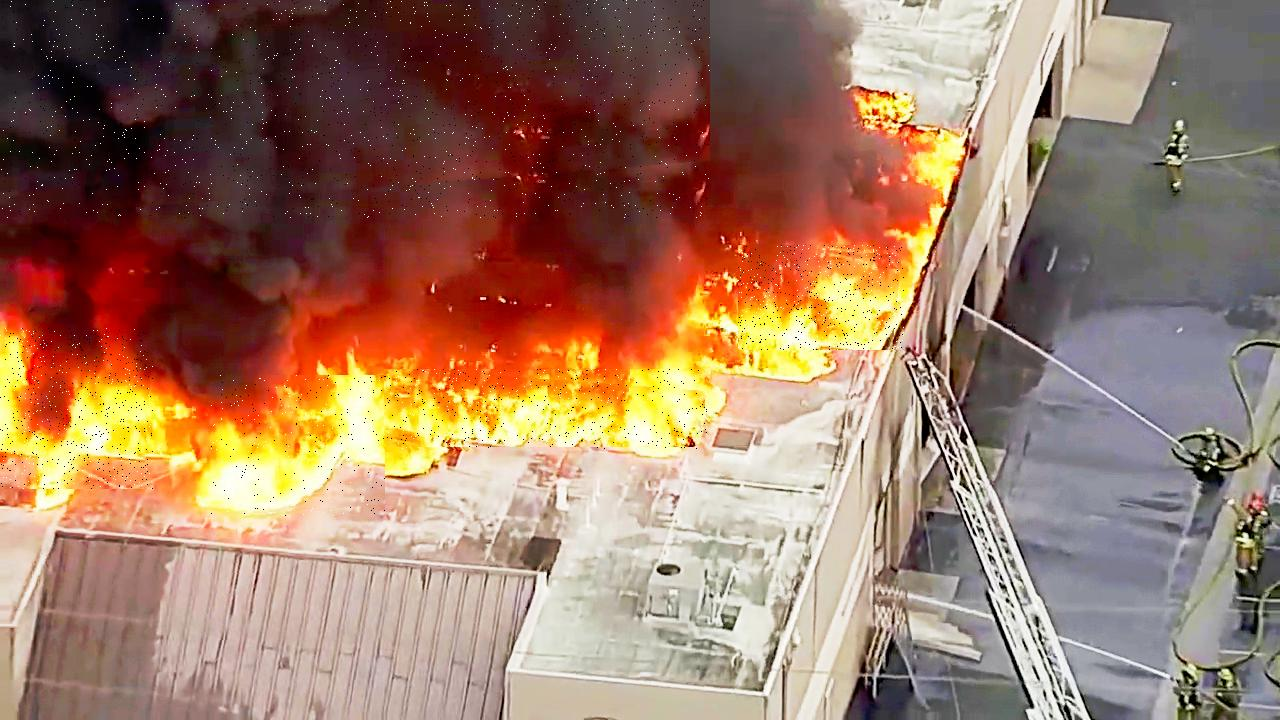fire: (385, 370, 709, 450), (0, 328, 153, 489), (211, 375, 385, 516), (739, 245, 905, 350)
smoke: (0, 0, 710, 218)
